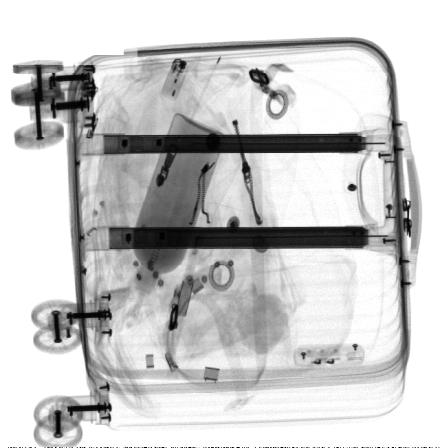Lighter: (161, 57, 188, 100)
